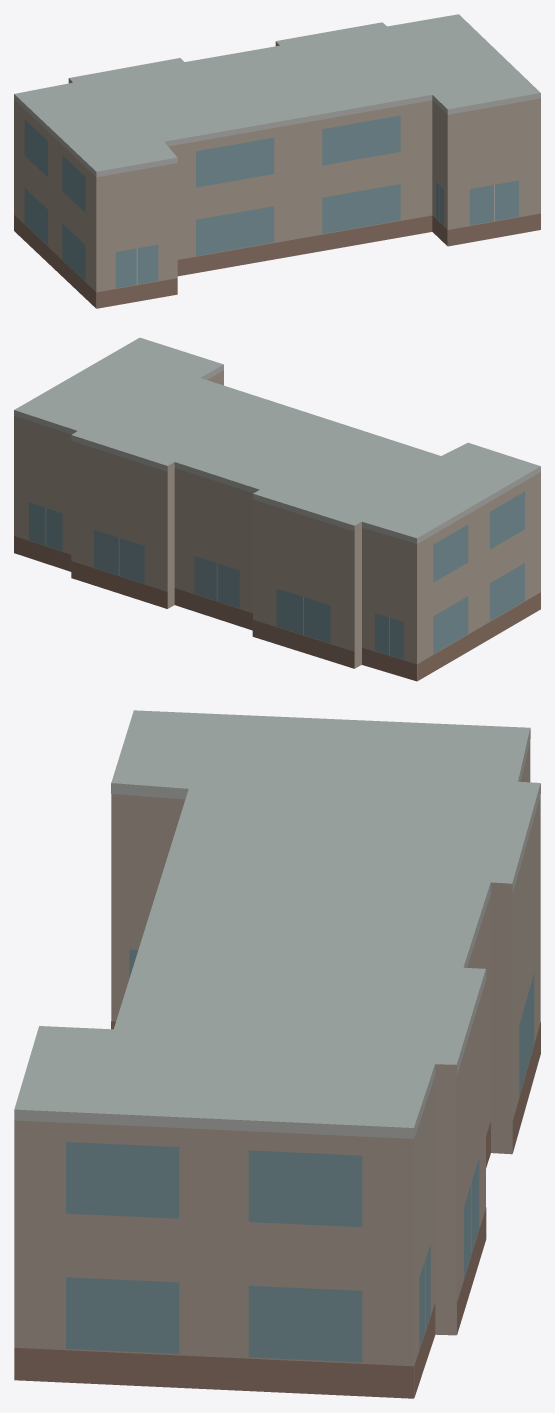
File: survey-upis-32881151.glb
3 renders of one model, top to bottom at view 1: azimuth 30°, elevation 25°; view 2: azimuth 150°, elevation 25°; view 3: azimuth 270°, elevation 25°, orthographic. The views are drawn at different scales.
Visible parts, largest first — view 1: survey-upis-32881151.tmp; view 2: survey-upis-32881151.tmp; view 3: survey-upis-32881151.tmp.
Boxes of the visible parts, left/top/right/bottom form: survey-upis-32881151.tmp: left=14, top=14, right=540, bottom=308; survey-upis-32881151.tmp: left=14, top=337, right=540, bottom=681; survey-upis-32881151.tmp: left=14, top=710, right=540, bottom=1398.
Bounding box in the file's own units: 20.21 × 6.1 × 10.77.
